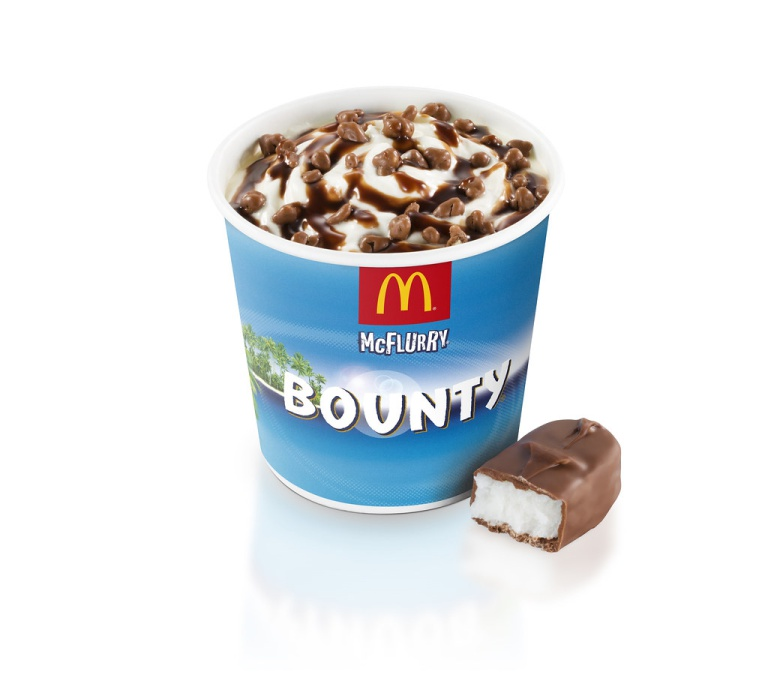mcdonalds: (370, 269, 441, 327)
